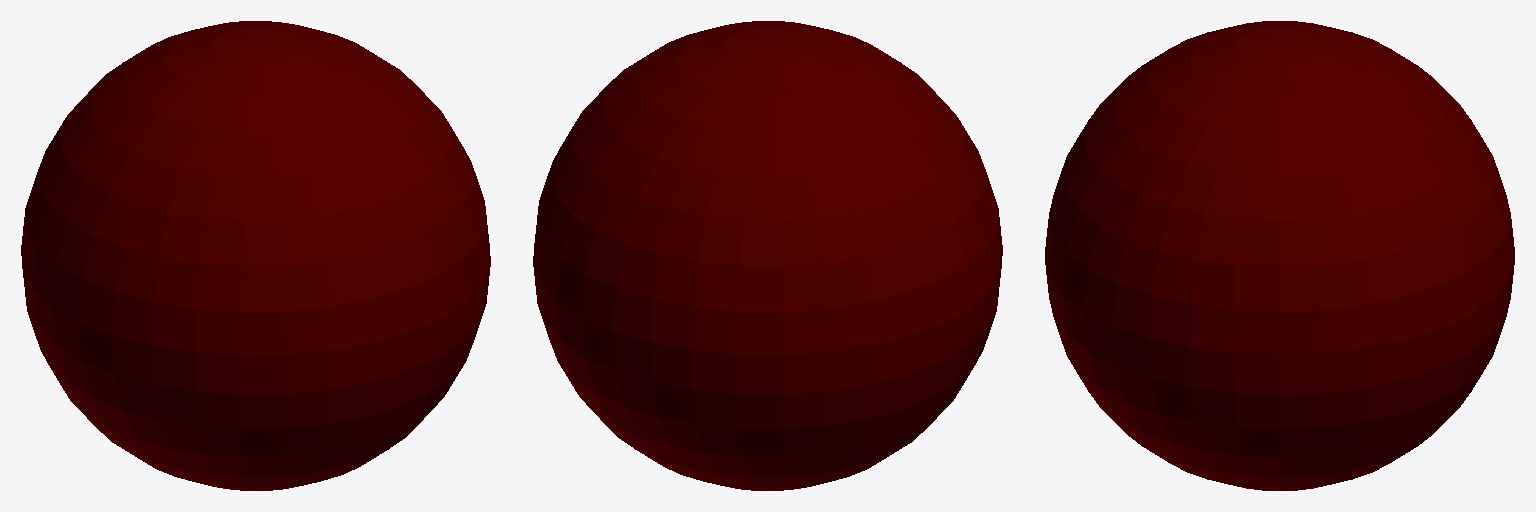
The model's file is ball.obj.
3 views of the same model, side by side, from view 1: azimuth 30°, elevation 25°; view 2: azimuth 150°, elevation 25°; view 3: azimuth 270°, elevation 25° (orthographic).
Parts seen in each view (by area): view 1: Sphere; view 2: Sphere; view 3: Sphere.
Part boxes in pixels (bbox=[...]): Sphere: bbox=[21, 21, 490, 490]; Sphere: bbox=[533, 21, 1002, 490]; Sphere: bbox=[1045, 21, 1514, 490].
Bounding box in the file's own units: 2 × 2 × 2.